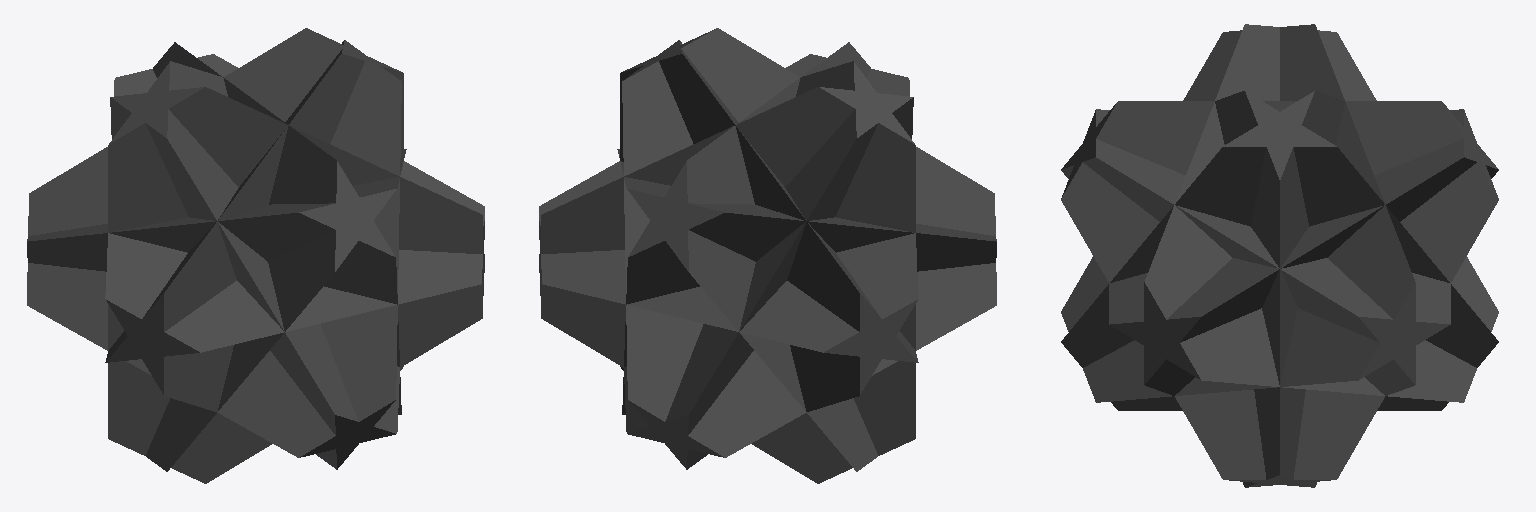
Rendered from meteorito3.obj.
3 renders of one model, left to right at view 1: azimuth 30°, elevation 25°; view 2: azimuth 150°, elevation 25°; view 3: azimuth 270°, elevation 25°, orthographic.
Parts seen in each view (by area): view 1: Hedra001; view 2: Hedra001; view 3: Hedra001.
Part boxes in pixels (x1,y1,x2,y2): Hedra001: (27,28,484,483); Hedra001: (539,28,996,483); Hedra001: (1061,24,1498,487).
Bounding box in the file's own units: 28.23 × 28.23 × 28.23.